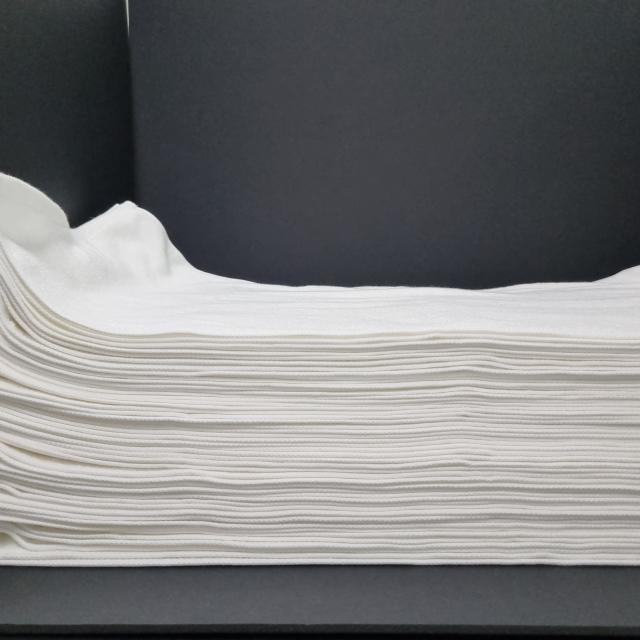50_towel_counts: (0, 157, 640, 585)
